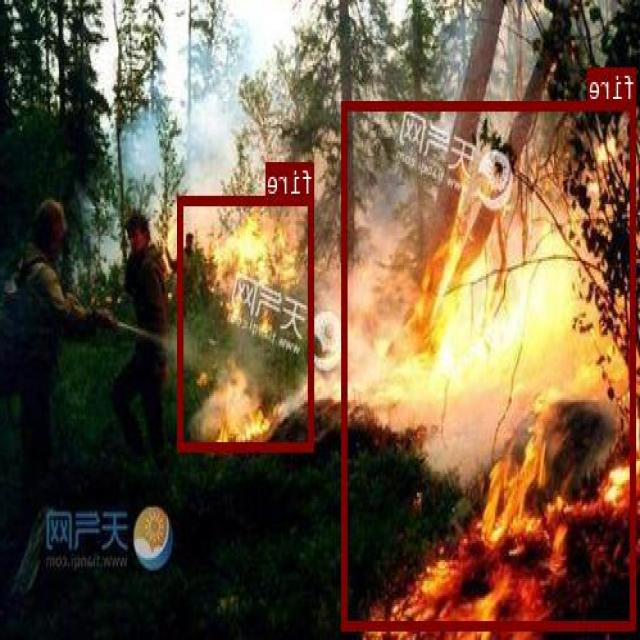fire: (343, 100, 636, 628), (178, 194, 314, 450)
